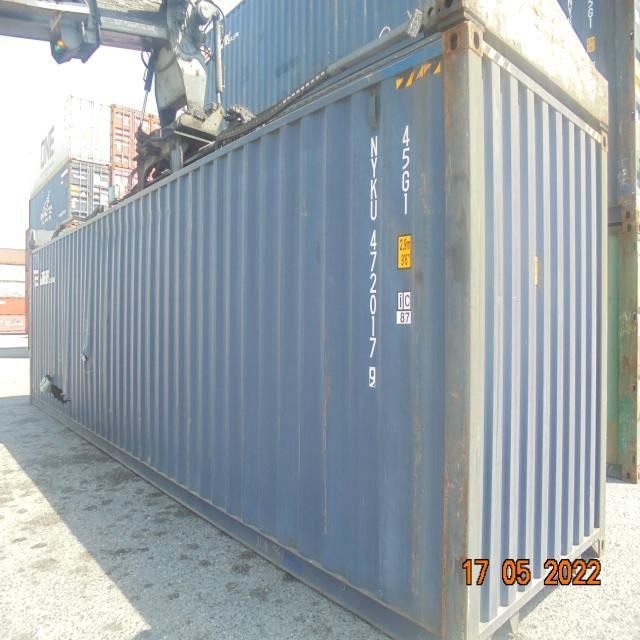hole: (40, 375, 77, 408)
